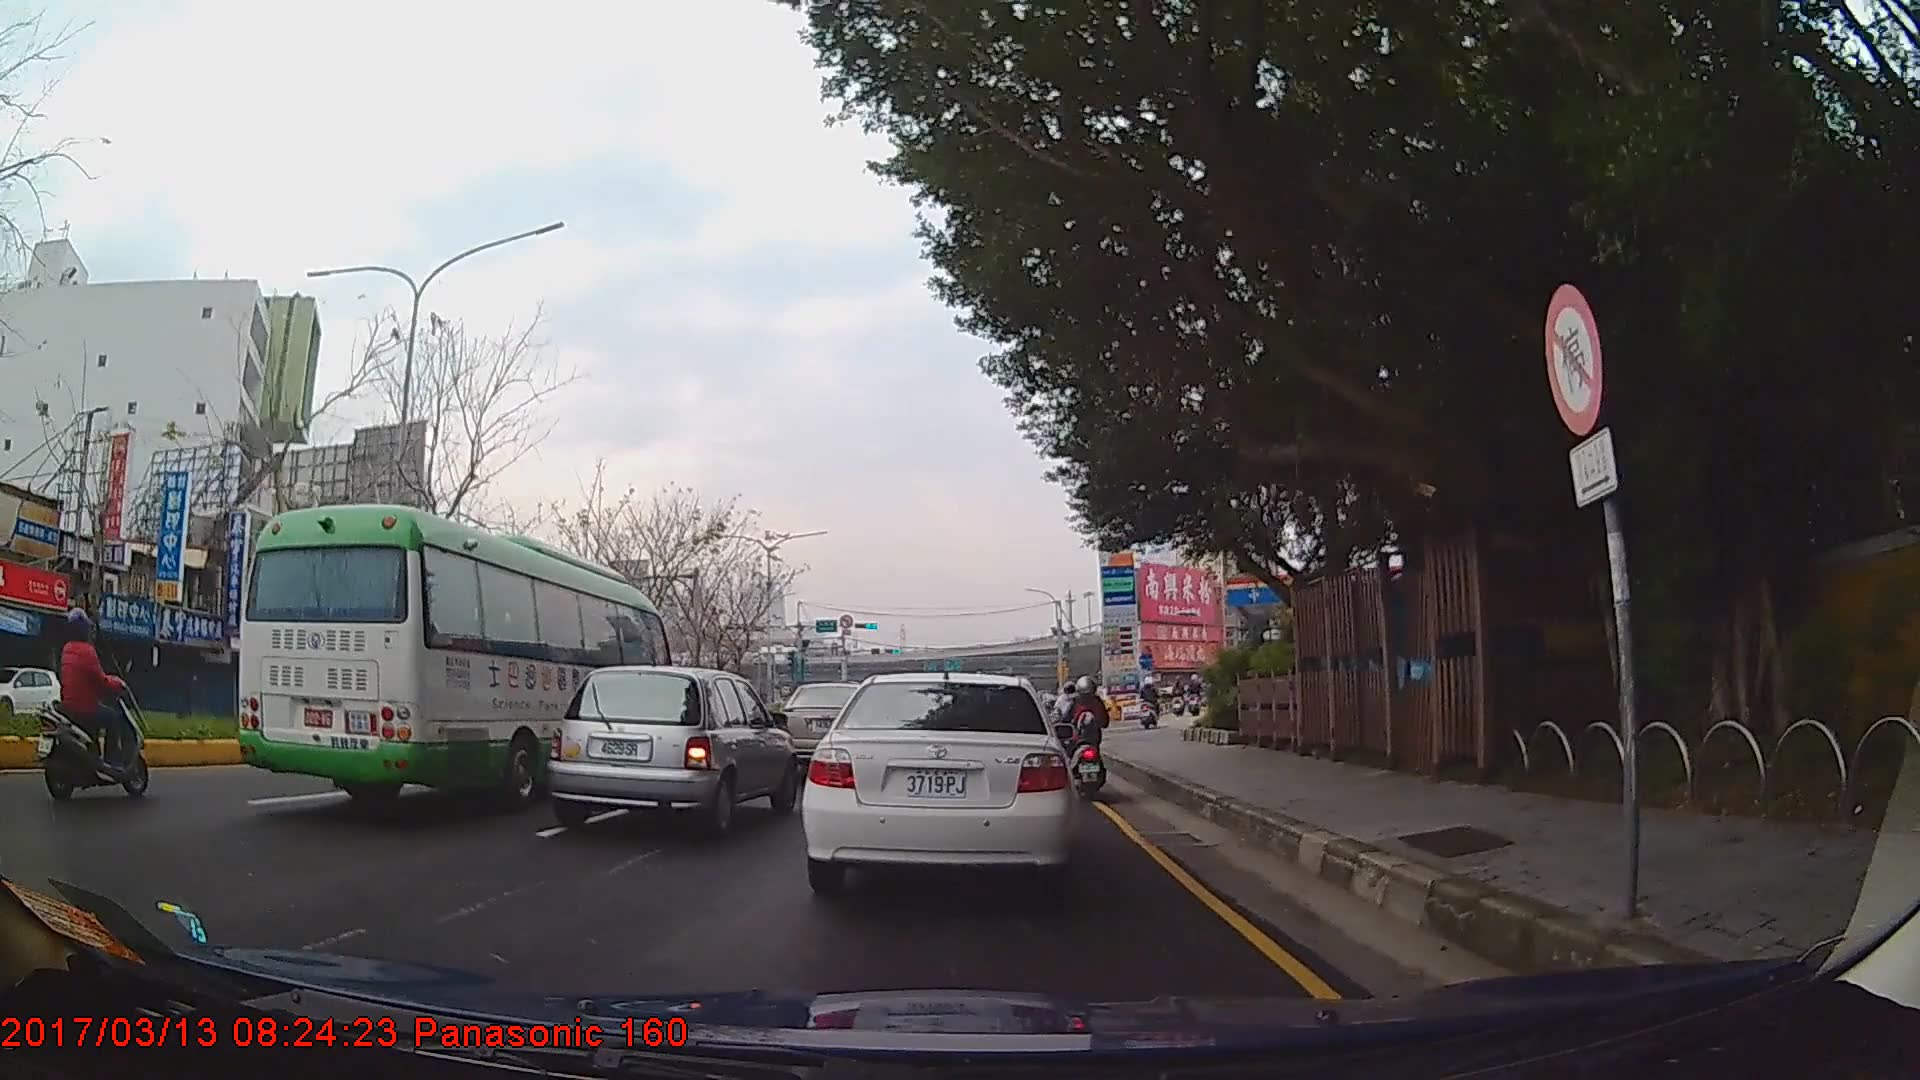rider: (33, 605, 147, 799), (1063, 673, 1112, 801), (1057, 679, 1084, 762), (1139, 677, 1162, 731)
vehicle: (237, 503, 674, 812), (798, 670, 1076, 891), (543, 657, 794, 835), (774, 677, 872, 768), (0, 658, 68, 728)
